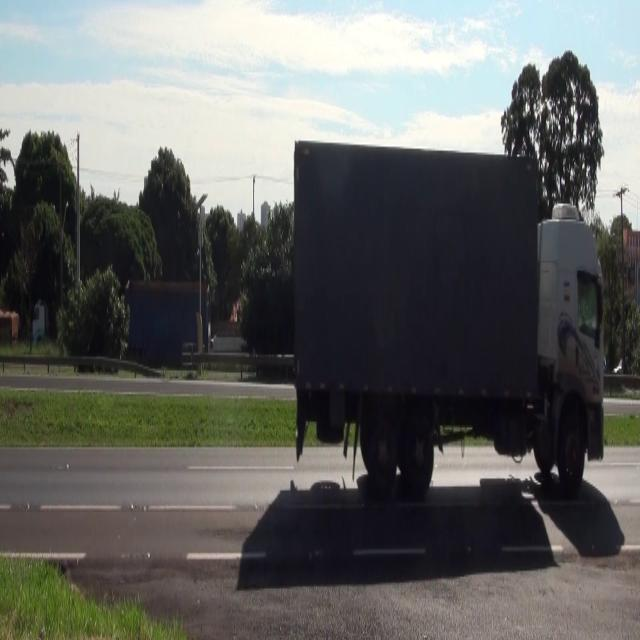-axle: (368, 402, 398, 491)
